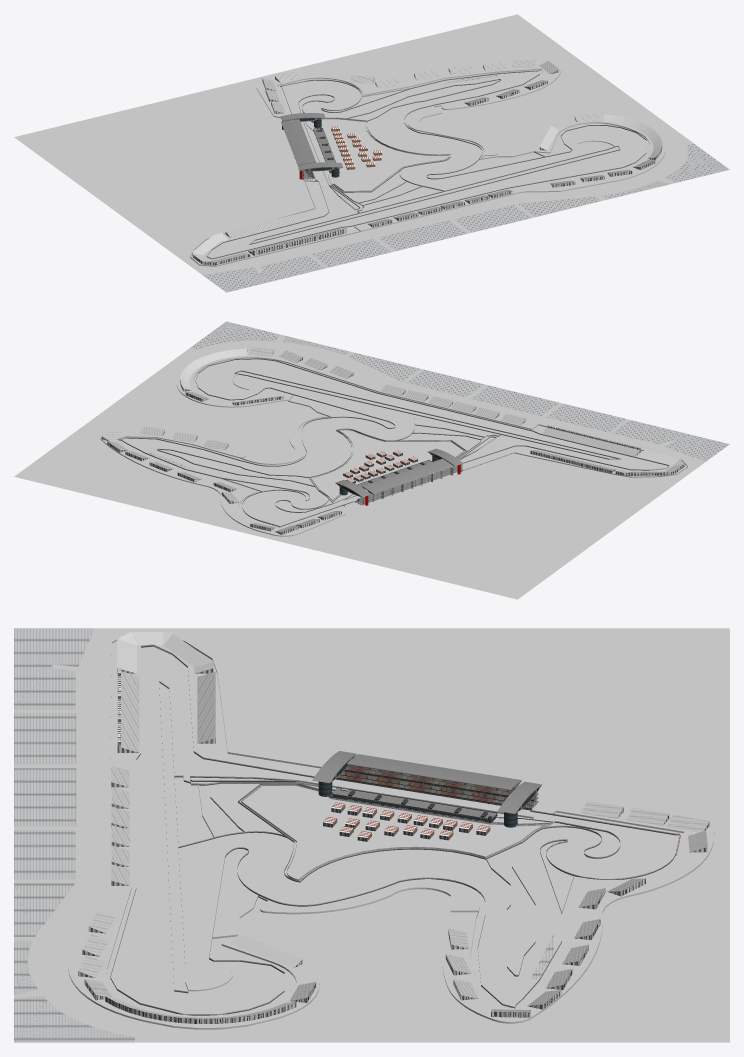
Rendered from AutoSave_Shangai_International_Circuit_GP_Track_no_google_earth.glb.
3 views of the same model, one above another, from view 1: azimuth 30°, elevation 25°; view 2: azimuth 150°, elevation 25°; view 3: azimuth 270°, elevation 25° (orthographic). The views are drawn at different scales.
Parts seen in each view (by area): view 1: _(Loose Entity), C-CANZ06#2; view 2: _(Loose Entity), C-CANZ06#2, C-CANZ1; view 3: _(Loose Entity), C-CANZ1, C-CANZ06#2, _C-Component#5 (Loose Mesh), C-CANZ06, C-CANZ06.001.
Boxes of the visible parts, box(x1,y1,x2,y2) form: _(Loose Entity): box(14, 14, 729, 292); C-CANZ06#2: box(281, 119, 316, 165); _(Loose Entity): box(14, 321, 729, 599); C-CANZ06#2: box(362, 458, 453, 494); C-CANZ1: box(354, 465, 457, 505); _(Loose Entity): box(14, 628, 729, 1042); C-CANZ1: box(336, 765, 538, 810); C-CANZ06#2: box(347, 754, 521, 790); _C-Component#5 (Loose Mesh): box(331, 787, 497, 819); C-CANZ06: box(498, 781, 542, 813); C-CANZ06.001: box(312, 751, 356, 783).
Size of the model in its own units: 2017 by 46.04 by 1473.
36 materials, 27 textured.
